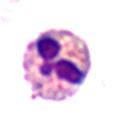eosi: (18, 26, 91, 103)
